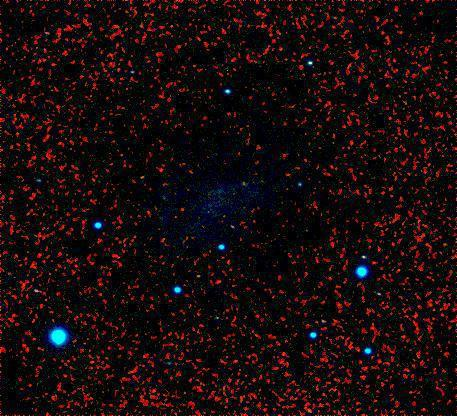star: (231, 162, 261, 192)
